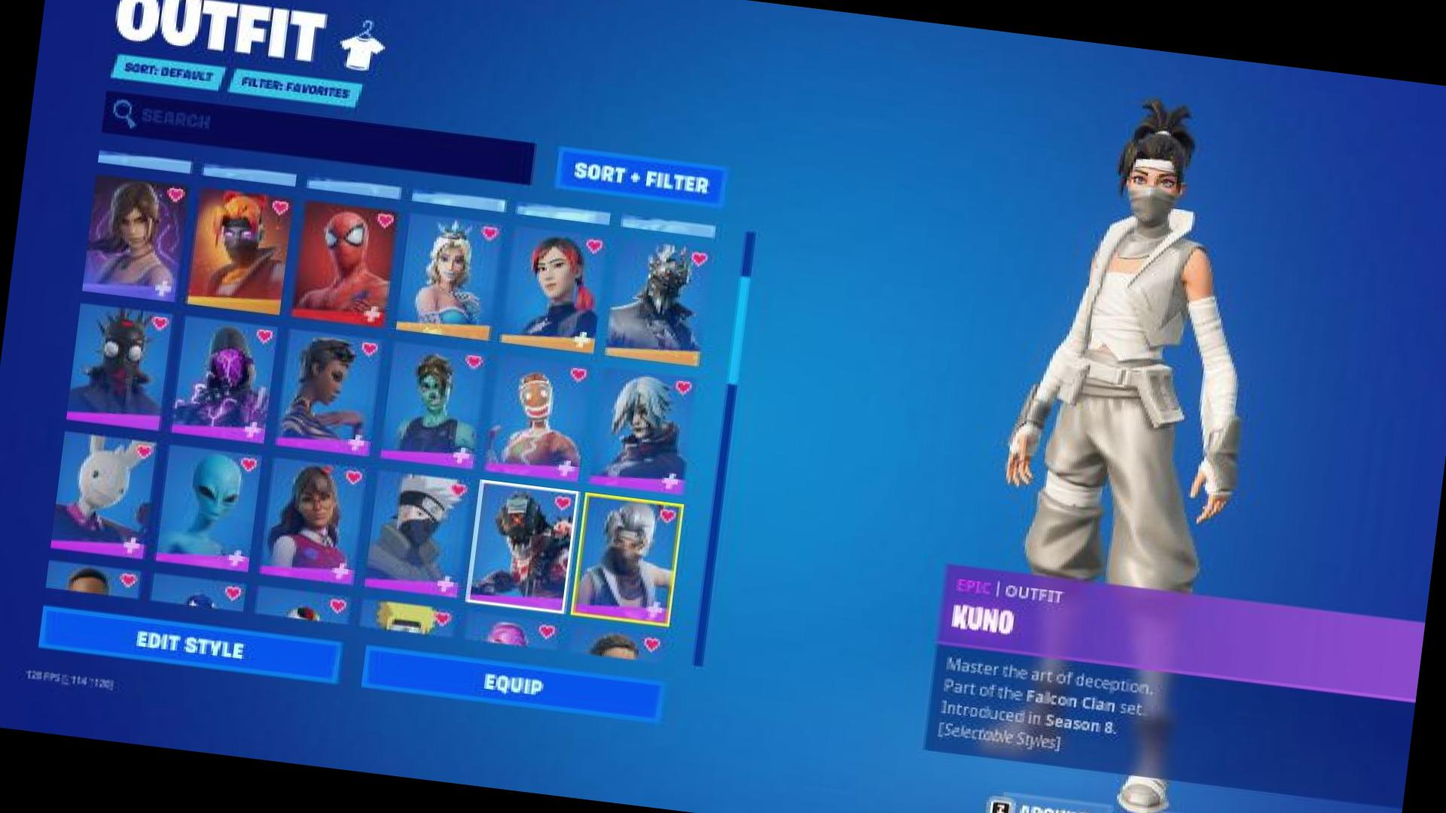player: (958, 90, 1265, 813)
